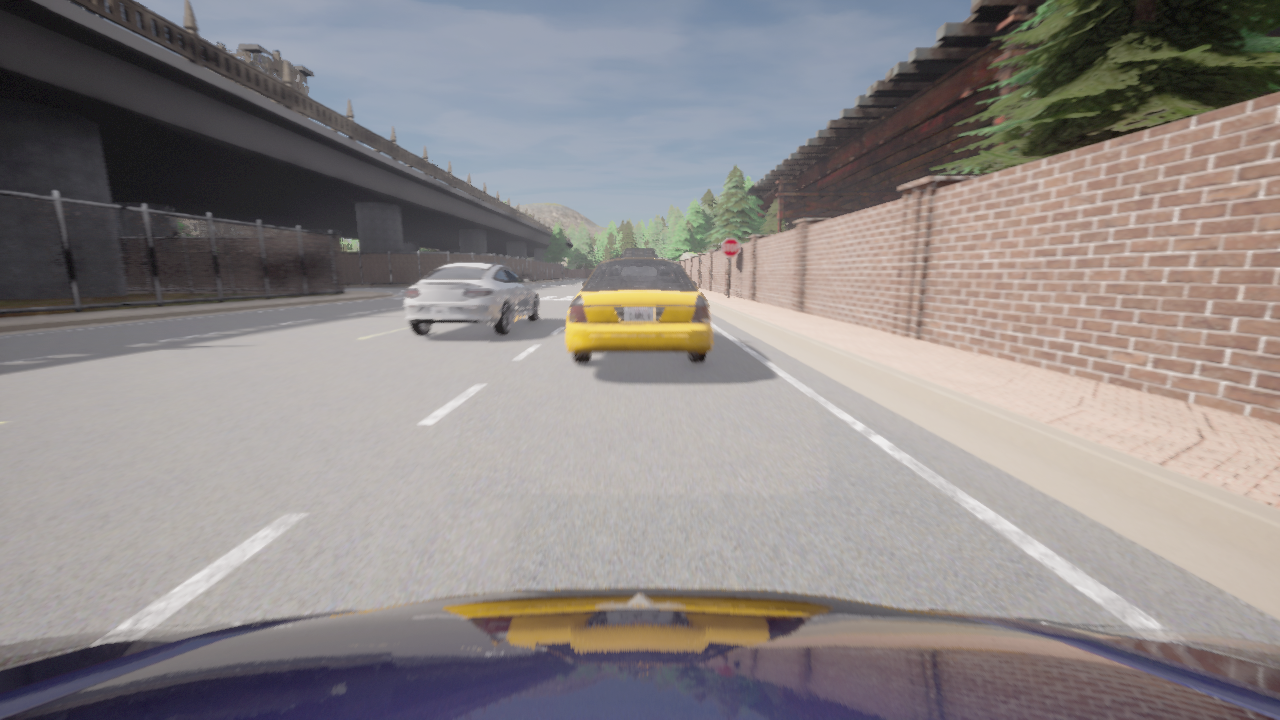cyclist: (0, 588, 1279, 719), (566, 249, 712, 363), (403, 262, 542, 335)
